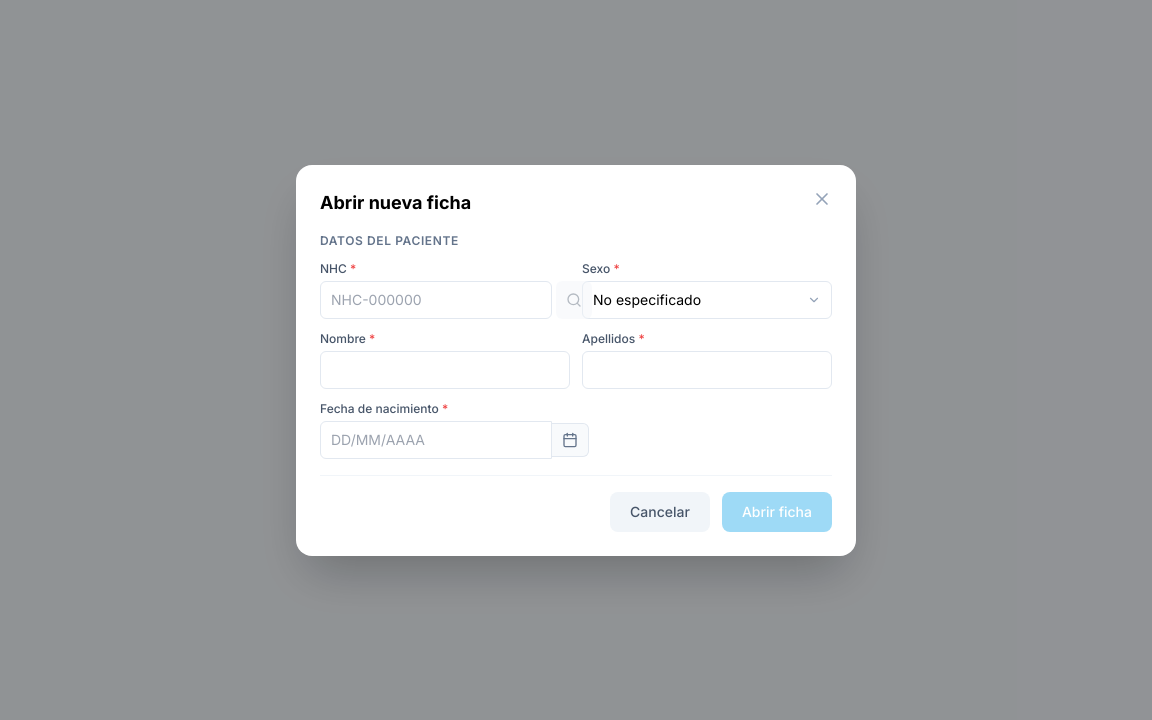
Test case: NewPatientModal — Admin mode › [KAN-100] shows "active" error after NHC search
Type "NHC-001" into the field with placeholder "NHC-000000".
click(436, 300); type("NHC-001")  # box [320,280,552,318]
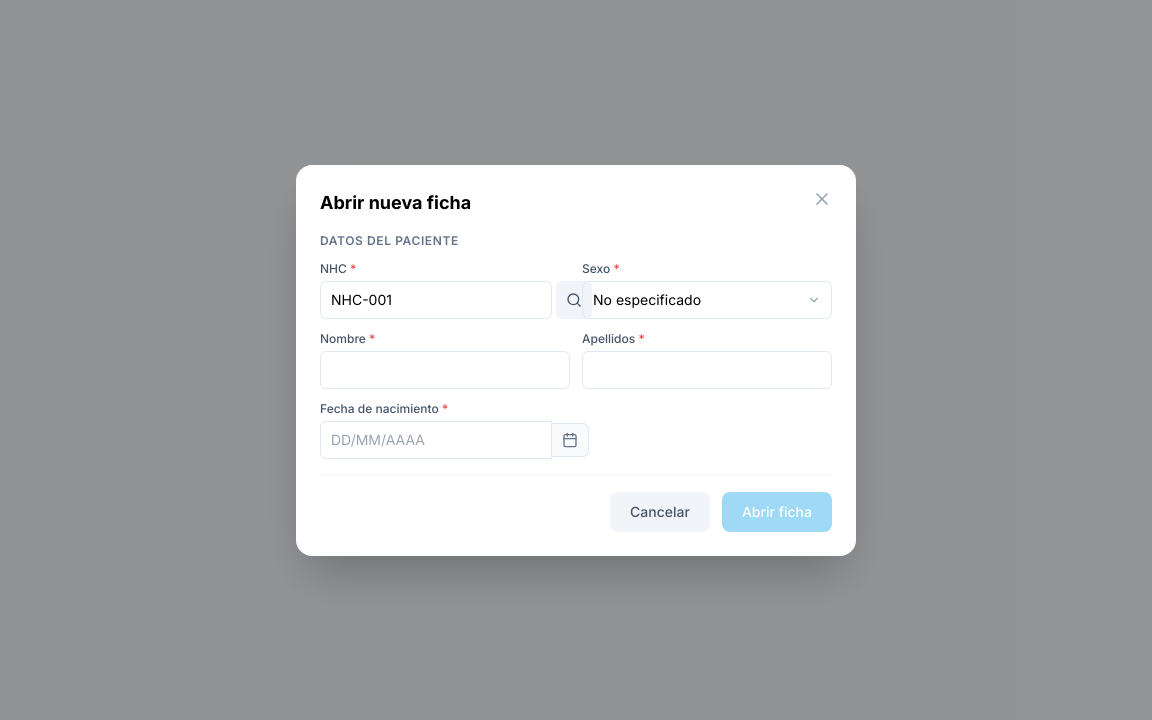
Click the button titled "Buscar paciente por NHC".
click(574, 300)  # box [556,280,592,318]
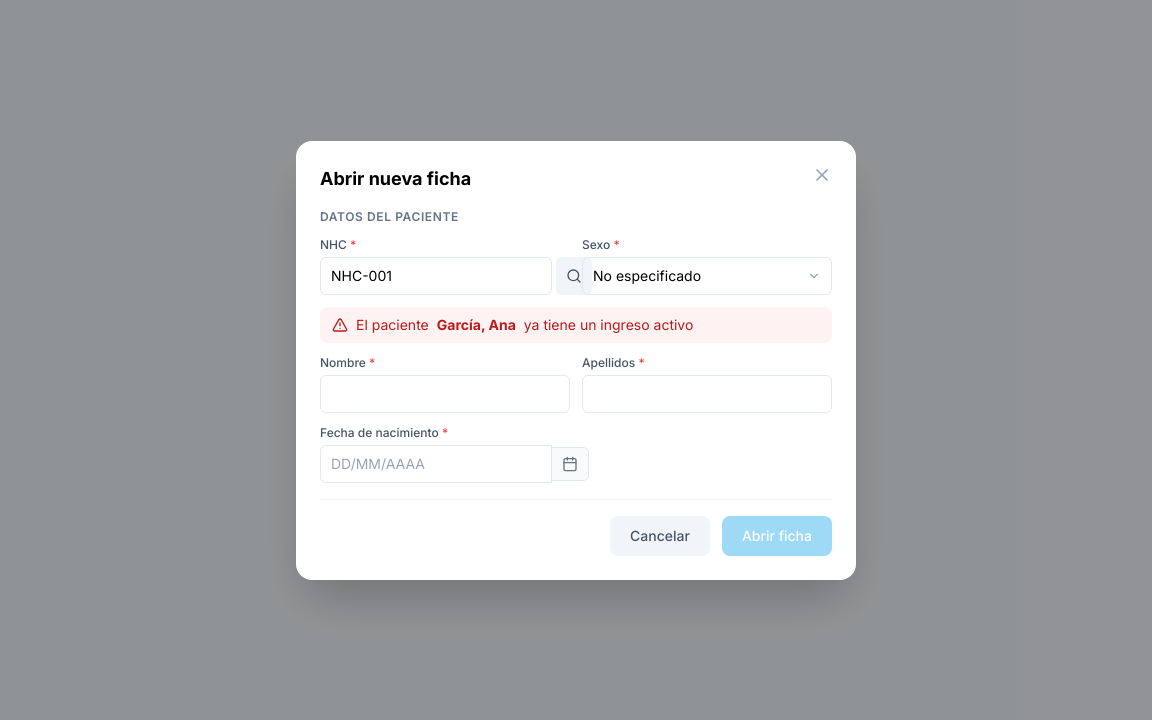
Expected: the button "Abrir ficha" is disabled, [722,516,832,556]
Now the text "El paciente García, Ana ya tiene un ingreso activo" is shown, box [320,306,832,342]
